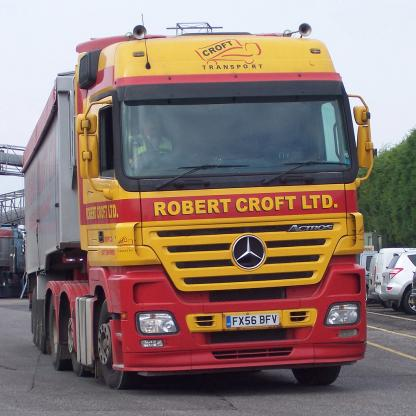Car: (381, 248, 416, 315)
